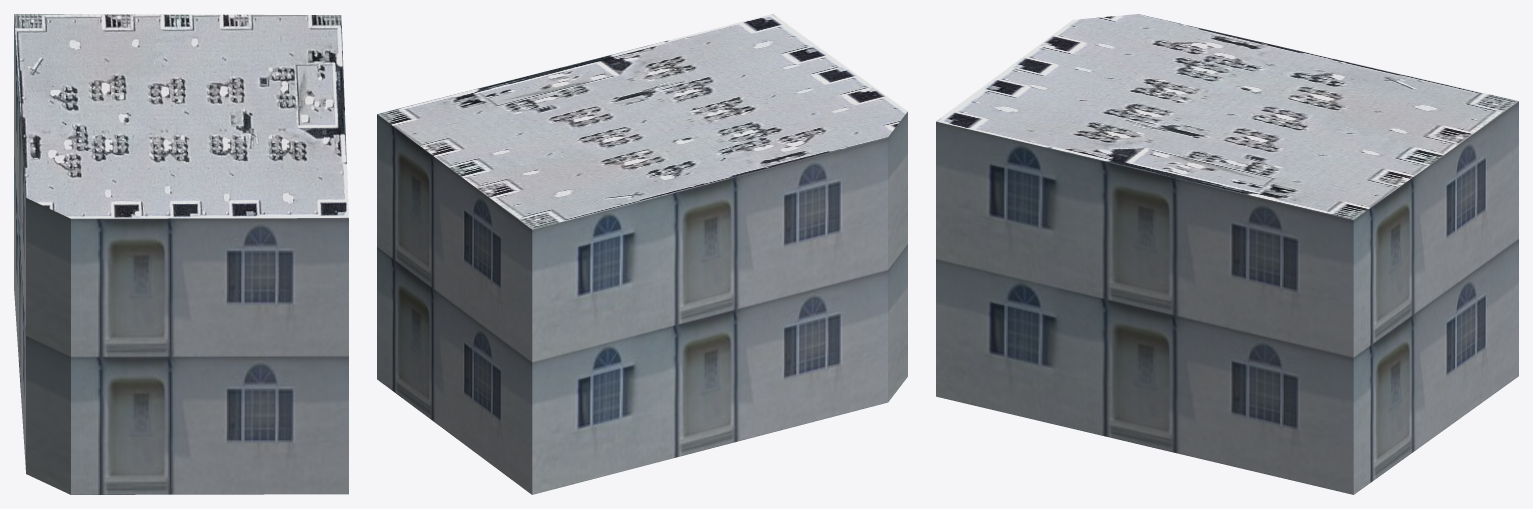
The model's file is ResTex__705.fbx.
3 views of the same model, side by side, from view 1: azimuth 30°, elevation 25°; view 2: azimuth 150°, elevation 25°; view 3: azimuth 270°, elevation 25° (orthographic). The views are drawn at different scales.
Parts seen in each view (by area): view 1: CityEngineMaterial_17_m, CityEngineMaterial_8_m; view 2: CityEngineMaterial_17_m, CityEngineMaterial_8_m; view 3: CityEngineMaterial_17_m, CityEngineMaterial_8_m.
Boxes of the visible parts, <box> form: CityEngineMaterial_17_m: <box>14,14,348,494</box>; CityEngineMaterial_8_m: <box>14,14,348,218</box>; CityEngineMaterial_17_m: <box>377,111,907,494</box>; CityEngineMaterial_8_m: <box>377,14,907,229</box>; CityEngineMaterial_17_m: <box>936,101,1518,494</box>; CityEngineMaterial_8_m: <box>936,14,1518,219</box>.
Size of the model in its own units: 9.63 by 6 by 11.52.
2 materials, 2 textured.
